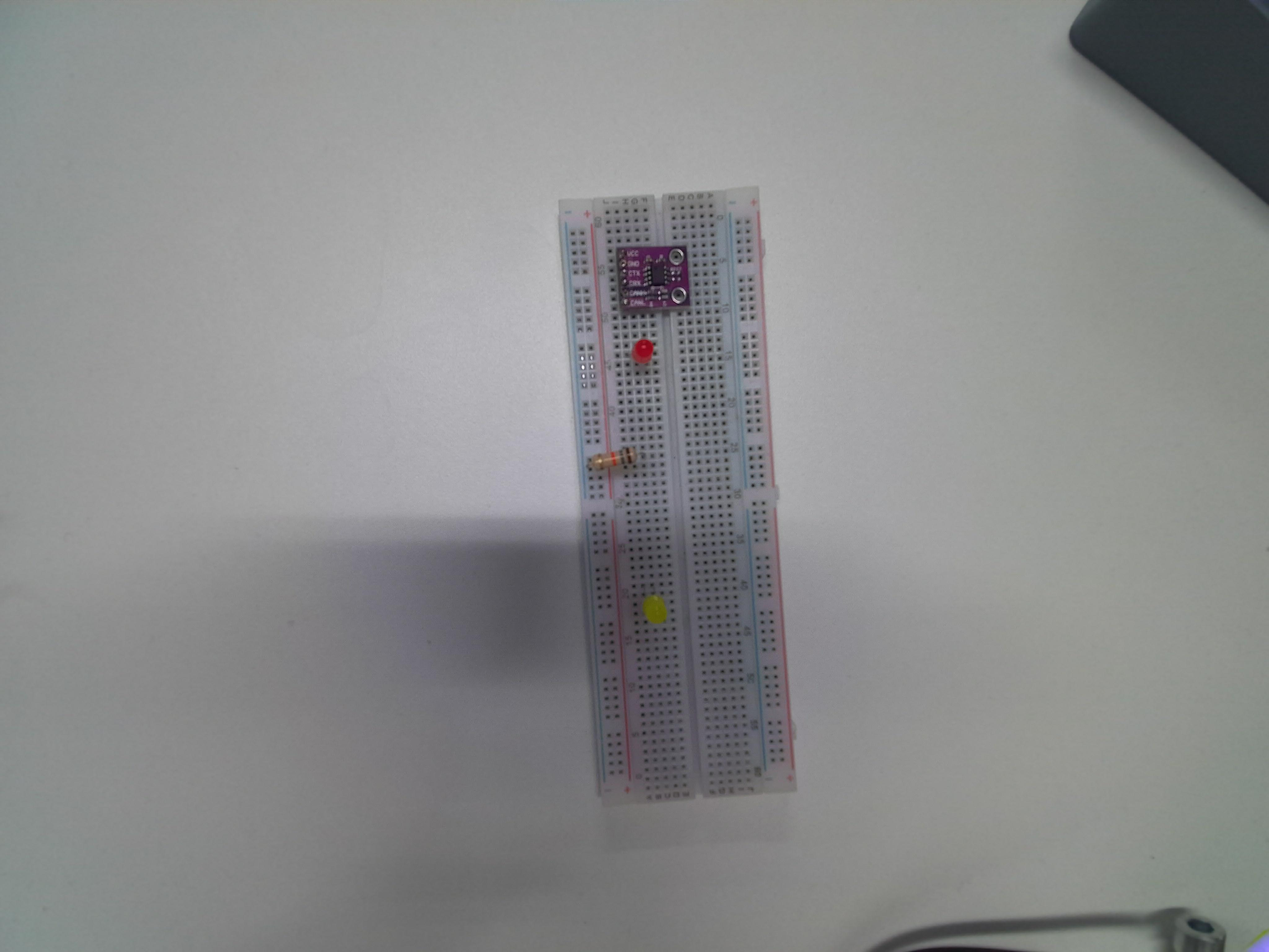base: (559, 180, 799, 807)
purple-board: (610, 244, 693, 318)
red-led: (627, 337, 659, 369)
resistor-big: (864, 905, 1238, 952), (587, 448, 640, 479)
yellow-led: (638, 594, 676, 635)
